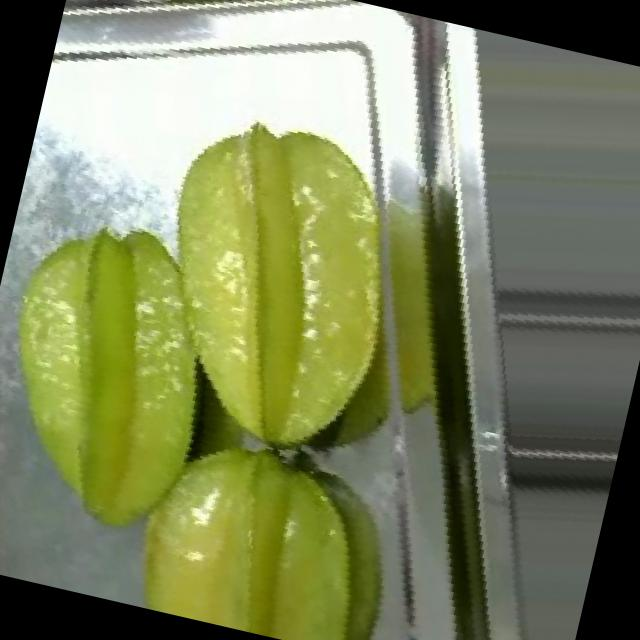fruit: (64, 55, 498, 519), (0, 186, 346, 613), (74, 365, 448, 640)
